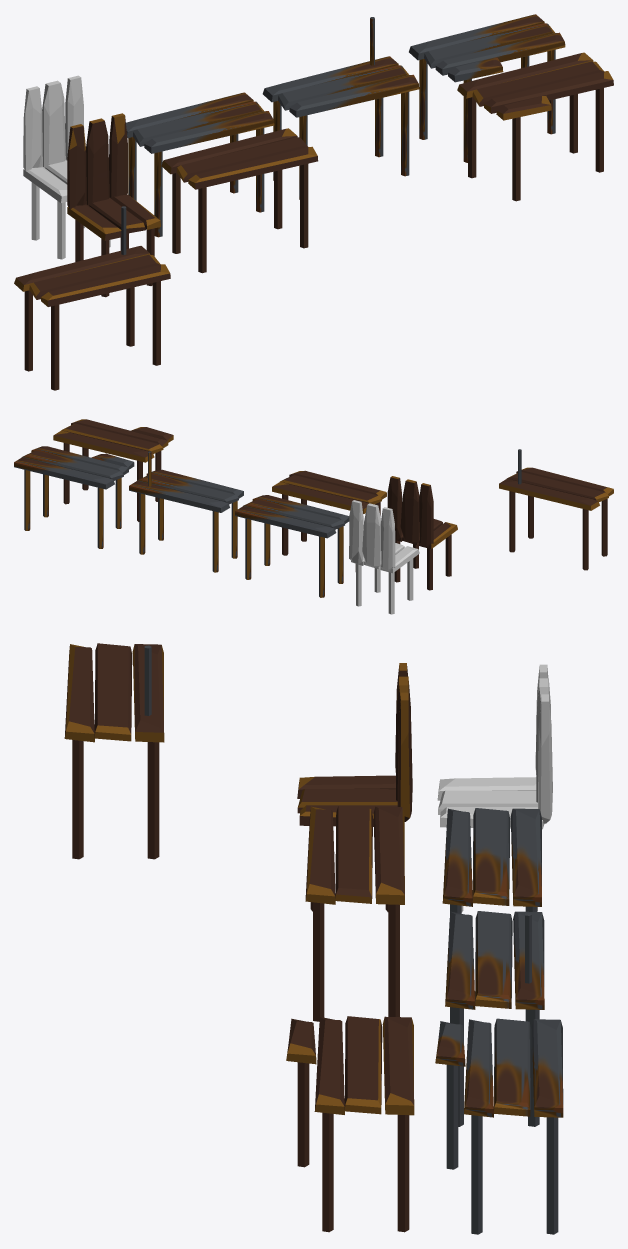
File: AlchimistryTable.obj
3 views of the same model, one above another, from view 1: azimuth 30°, elevation 25°; view 2: azimuth 150°, elevation 25°; view 3: azimuth 270°, elevation 25° (orthographic). The views are drawn at different scales.
Visible parts, largest first — view 1: Cube.017, Cube.021, Cube.009, Cube.012, Cube.006, Cube.015, Cube.002, Cube.010, Cube.008, Cube.013, Cube.018, Cube.004 (+12 smaller); view 2: Cube.021, Cube.009, Cube.017, Cube.012, Cube.011, Cube.007, Cube.016, Cube.002, Cube.008, Cube.013, Cube.018, Cube.004 (+18 smaller); view 3: Cube.017, Cube.021, Cube.012, Cube.009, Cube.018, Cube.008, Cube.013, Cube.011, Cube.007, Cube.015, Cube.006, Cube.010 (+8 smaller).
Part boxes in pixels (left/top/right/bottom): Cube.017: left=457, top=52, right=613, bottom=201; Cube.021: left=14, top=206, right=170, bottom=390; Cube.009: left=67, top=113, right=160, bottom=297; Cube.012: left=161, top=128, right=318, bottom=273; Cube.006: left=144, top=111, right=274, bottom=153; Cube.015: left=289, top=74, right=419, bottom=117; Cube.002: left=42, top=80, right=65, bottom=167; Cube.010: left=435, top=32, right=565, bottom=75; Cube.008: left=133, top=101, right=263, bottom=146; Cube.013: left=424, top=23, right=554, bottom=68; Cube.018: left=278, top=65, right=408, bottom=110; Cube.004: left=23, top=86, right=42, bottom=171; Cube.021: left=499, top=449, right=613, bottom=570; Cube.009: left=387, top=476, right=457, bottom=590; Cube.017: left=53, top=419, right=173, bottom=521; Cube.012: left=272, top=470, right=386, bottom=571; Cube.011: left=14, top=457, right=114, bottom=489; Cube.007: left=235, top=506, right=336, bottom=538; Cube.016: left=129, top=481, right=229, bottom=512; Cube.002: left=362, top=503, right=380, bottom=567; Cube.008: left=243, top=499, right=344, bottom=529; Cube.013: left=22, top=450, right=123, bottom=480; Cube.018: left=137, top=474, right=238, bottom=504; Cube.004: left=381, top=507, right=395, bottom=571; Cube.017: left=286, top=1016, right=414, bottom=1232; Cube.021: left=64, top=643, right=164, bottom=859; Cube.012: left=305, top=805, right=404, bottom=1021; Cube.009: left=297, top=663, right=412, bottom=911; Cube.018: left=475, top=911, right=512, bottom=1008; Cube.008: left=472, top=808, right=510, bottom=905; Cube.013: left=493, top=1018, right=531, bottom=1116; Cube.011: left=532, top=1019, right=563, bottom=1117; Cube.007: left=510, top=808, right=541, bottom=906; Cube.015: left=445, top=911, right=475, bottom=1009; Cube.006: left=442, top=808, right=472, bottom=906; Cube.010: left=464, top=1019, right=493, bottom=1117.
Bounding box in the file's own units: 14.89 × 3.19 × 6.71.
Materials: 1 (1 with a texture image).
